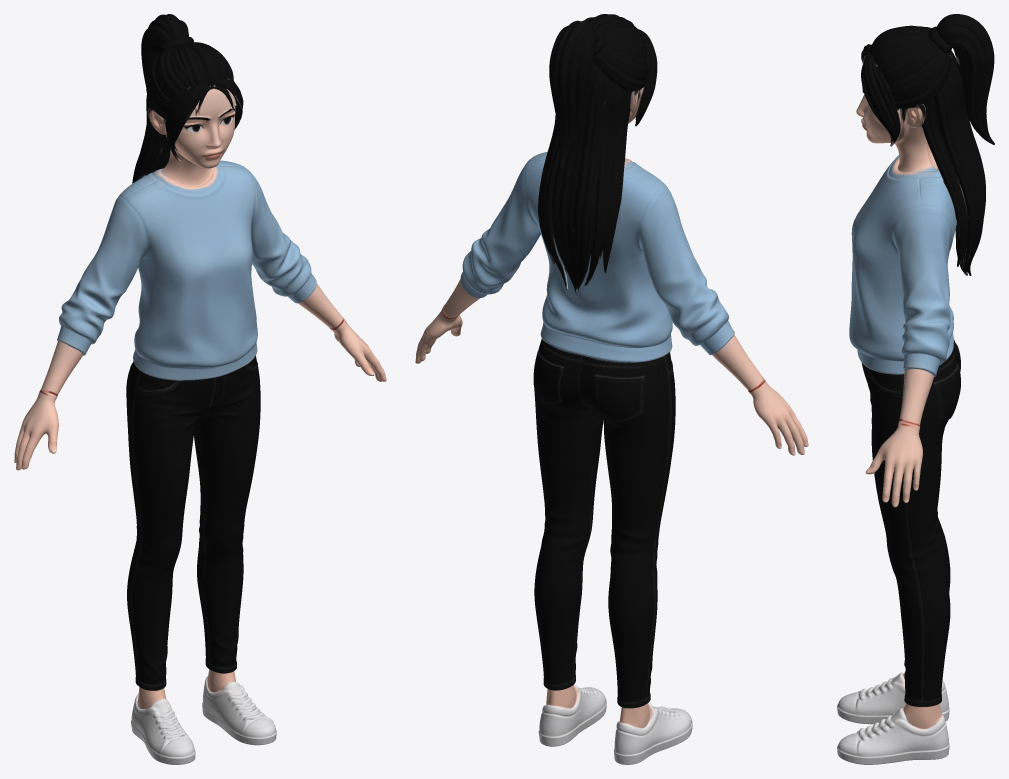
Rendered from amiga2.glb.
3 views of the same model, side by side, from view 1: azimuth 30°, elevation 25°; view 2: azimuth 150°, elevation 25°; view 3: azimuth 270°, elevation 25° (orthographic). The views are drawn at different scales.
Size of the model in its own units: 1.05 by 1.9 by 0.3775.
1 material, 1 textured.
